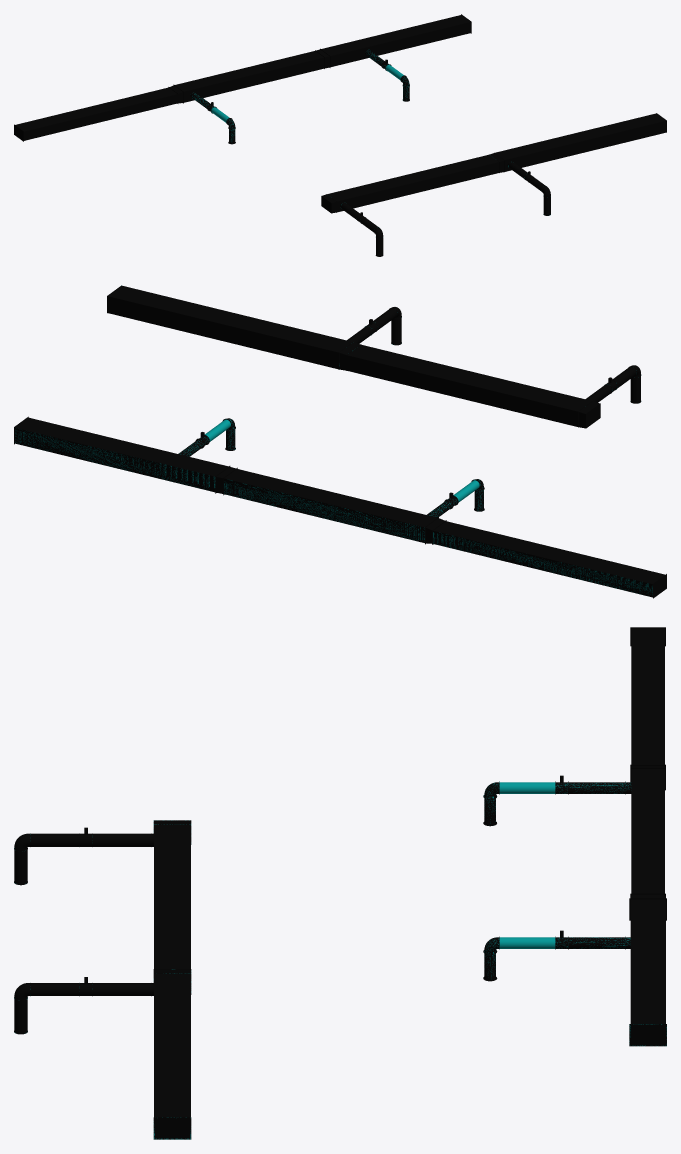
File: GCC-AAV-13220-30.nwd(21).fbx
3 renders of one model, top to bottom at view 1: azimuth 30°, elevation 25°; view 2: azimuth 150°, elevation 25°; view 3: azimuth 270°, elevation 25°, orthographic. The views are drawn at different scales.
Parts seen in each view (by area): view 1: STRT 7 of BRANCH /794-13220-ST-001-AHU-002A-SAA-0001-017, STRT 8 of BRANCH /794-13220-ST-001-AHU-002A-SAA-0001-017, STRT 9 of BRANCH /794-13220-ST-001-EF-002A-EA-0001-002, STRT 7 of BRANCH /794-13220-ST-001-EF-002A-EA-0001-002, STRT 8 of BRANCH /794-13220-ST-001-EF-002A-EA-0001-002; view 2: STRT 7 of BRANCH /794-13220-ST-001-AHU-002A-SAA-0001-017, STRT 8 of BRANCH /794-13220-ST-001-AHU-002A-SAA-0001-017, STRT 7 of BRANCH /794-13220-ST-001-EF-002A-EA-0001-002 (×2), STRT 9 of BRANCH /794-13220-ST-001-EF-002A-EA-0001-002 (×2), STRT 8 of BRANCH /794-13220-ST-001-EF-002A-EA-0001-002 (×2), TAPER 7 of BRANCH /794-13220-ST-001-AHU-002A-SAA-0001-017; view 3: STRT 7 of BRANCH /794-13220-ST-001-AHU-002A-SAA-0001-017, STRT 7 of BRANCH /794-13220-ST-001-EF-002A-EA-0001-002, STRT 8 of BRANCH /794-13220-ST-001-AHU-002A-SAA-0001-017, STRT 9 of BRANCH /794-13220-ST-001-EF-002A-EA-0001-002, STRT 8 of BRANCH /794-13220-ST-001-EF-002A-EA-0001-002, STRT 1 of BRANCH /794-13220-ST-001-AHU-002A-SAA-0001-027, STRT 1 of BRANCH /794-13220-ST-001-AHU-002A-SAA-0001-028.
Boxes of the visible parts, x1=… form: STRT 7 of BRANCH /794-13220-ST-001-AHU-002A-SAA-0001-017: x1=495, y1=113, x2=666, y2=171; STRT 8 of BRANCH /794-13220-ST-001-AHU-002A-SAA-0001-017: x1=327, y1=154, x2=499, y2=212; STRT 9 of BRANCH /794-13220-ST-001-EF-002A-EA-0001-002: x1=14, y1=87, x2=178, y2=141; STRT 7 of BRANCH /794-13220-ST-001-EF-002A-EA-0001-002: x1=321, y1=14, x2=471, y2=67; STRT 8 of BRANCH /794-13220-ST-001-EF-002A-EA-0001-002: x1=175, y1=50, x2=324, y2=102; STRT 7 of BRANCH /794-13220-ST-001-AHU-002A-SAA-0001-017: x1=107, y1=285, x2=352, y2=369; STRT 8 of BRANCH /794-13220-ST-001-AHU-002A-SAA-0001-017: x1=346, y1=344, x2=591, y2=426; STRT 7 of BRANCH /794-13220-ST-001-EF-002A-EA-0001-002 (×2): x1=14, y1=416, x2=228, y2=493; STRT 9 of BRANCH /794-13220-ST-001-EF-002A-EA-0001-002 (×2): x1=432, y1=520, x2=666, y2=598; STRT 8 of BRANCH /794-13220-ST-001-EF-002A-EA-0001-002 (×2): x1=223, y1=468, x2=437, y2=542; TAPER 7 of BRANCH /794-13220-ST-001-AHU-002A-SAA-0001-017: x1=578, y1=401, x2=600, y2=428; STRT 7 of BRANCH /794-13220-ST-001-AHU-002A-SAA-0001-017: x1=153, y1=972, x2=191, y2=1139; STRT 7 of BRANCH /794-13220-ST-001-EF-002A-EA-0001-002: x1=629, y1=898, x2=666, y2=1046; STRT 8 of BRANCH /794-13220-ST-001-AHU-002A-SAA-0001-017: x1=153, y1=824, x2=191, y2=968; STRT 9 of BRANCH /794-13220-ST-001-EF-002A-EA-0001-002: x1=630, y1=627, x2=665, y2=764; STRT 8 of BRANCH /794-13220-ST-001-EF-002A-EA-0001-002: x1=630, y1=768, x2=665, y2=893; STRT 1 of BRANCH /794-13220-ST-001-AHU-002A-SAA-0001-027: x1=92, y1=833, x2=150, y2=846; STRT 1 of BRANCH /794-13220-ST-001-AHU-002A-SAA-0001-028: x1=92, y1=983, x2=150, y2=996.
Bounding box in the file's own units: 1143 × 104 × 691.
